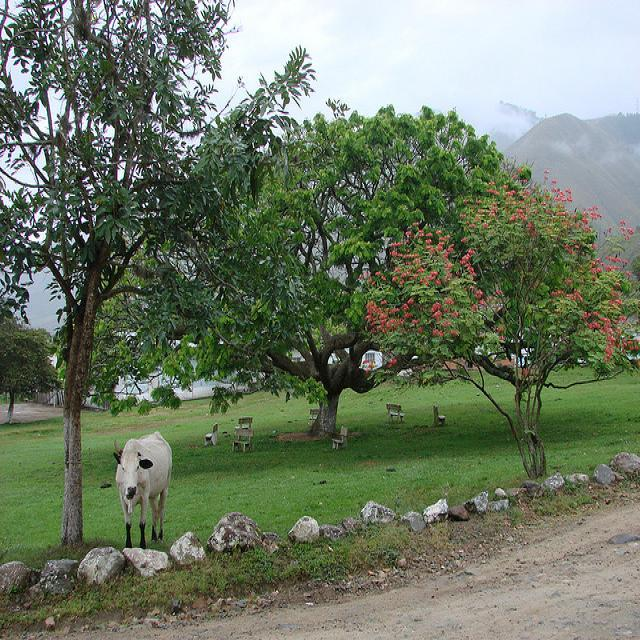cow: (112, 431, 172, 548)
